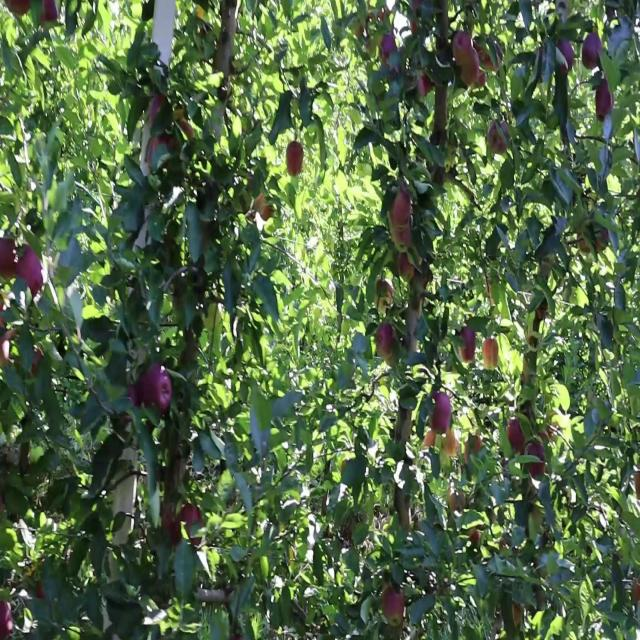apple: (140, 362, 173, 416), (16, 248, 44, 297), (456, 35, 478, 85), (180, 504, 204, 546), (148, 135, 176, 169), (476, 49, 499, 87), (432, 391, 452, 434), (28, 248, 44, 299), (148, 92, 169, 130), (164, 504, 182, 548), (384, 590, 407, 624), (488, 120, 509, 156), (584, 35, 604, 71), (392, 191, 412, 226), (460, 49, 478, 87), (556, 42, 576, 76), (452, 35, 473, 66), (596, 85, 614, 121), (392, 220, 413, 249), (0, 241, 17, 276), (380, 35, 398, 68), (464, 433, 484, 462), (460, 327, 476, 363), (288, 142, 304, 178), (376, 327, 395, 357), (528, 447, 546, 478), (508, 419, 524, 453), (256, 191, 273, 222), (40, 0, 59, 27), (400, 255, 417, 283), (444, 426, 460, 455), (484, 341, 500, 370), (8, 0, 31, 20), (376, 277, 393, 304), (180, 113, 195, 142), (4, 604, 15, 639), (4, 334, 16, 366), (32, 348, 44, 377), (128, 383, 141, 409), (452, 490, 467, 512), (420, 78, 433, 100), (424, 426, 436, 448), (596, 234, 609, 252), (632, 583, 640, 606), (36, 583, 45, 603), (516, 604, 523, 626), (580, 241, 590, 254), (636, 469, 640, 500), (0, 490, 5, 512), (472, 533, 480, 544)
